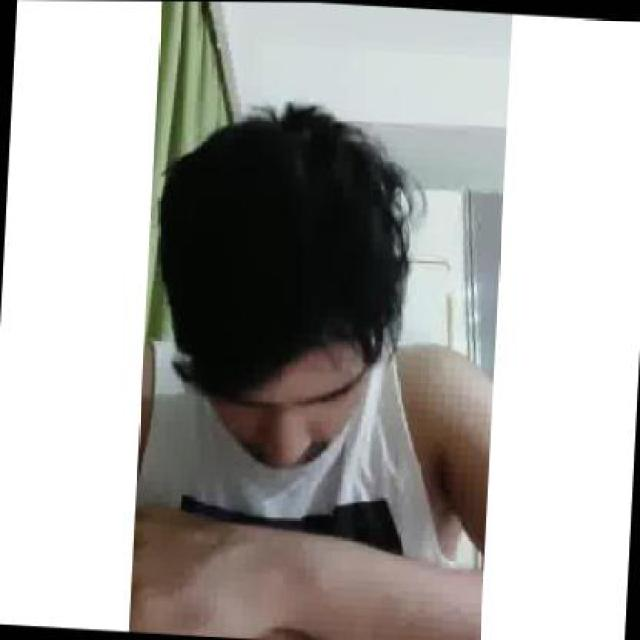inattentif: (145, 102, 381, 470)
